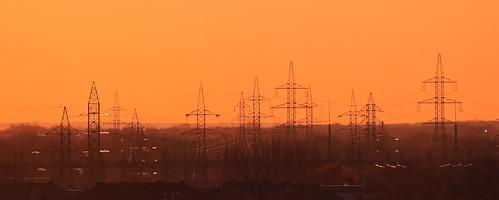power_tower: (416, 51, 465, 168), (271, 62, 308, 156), (184, 80, 224, 163), (79, 81, 111, 178), (45, 103, 80, 181), (362, 89, 389, 151), (247, 78, 268, 153)
